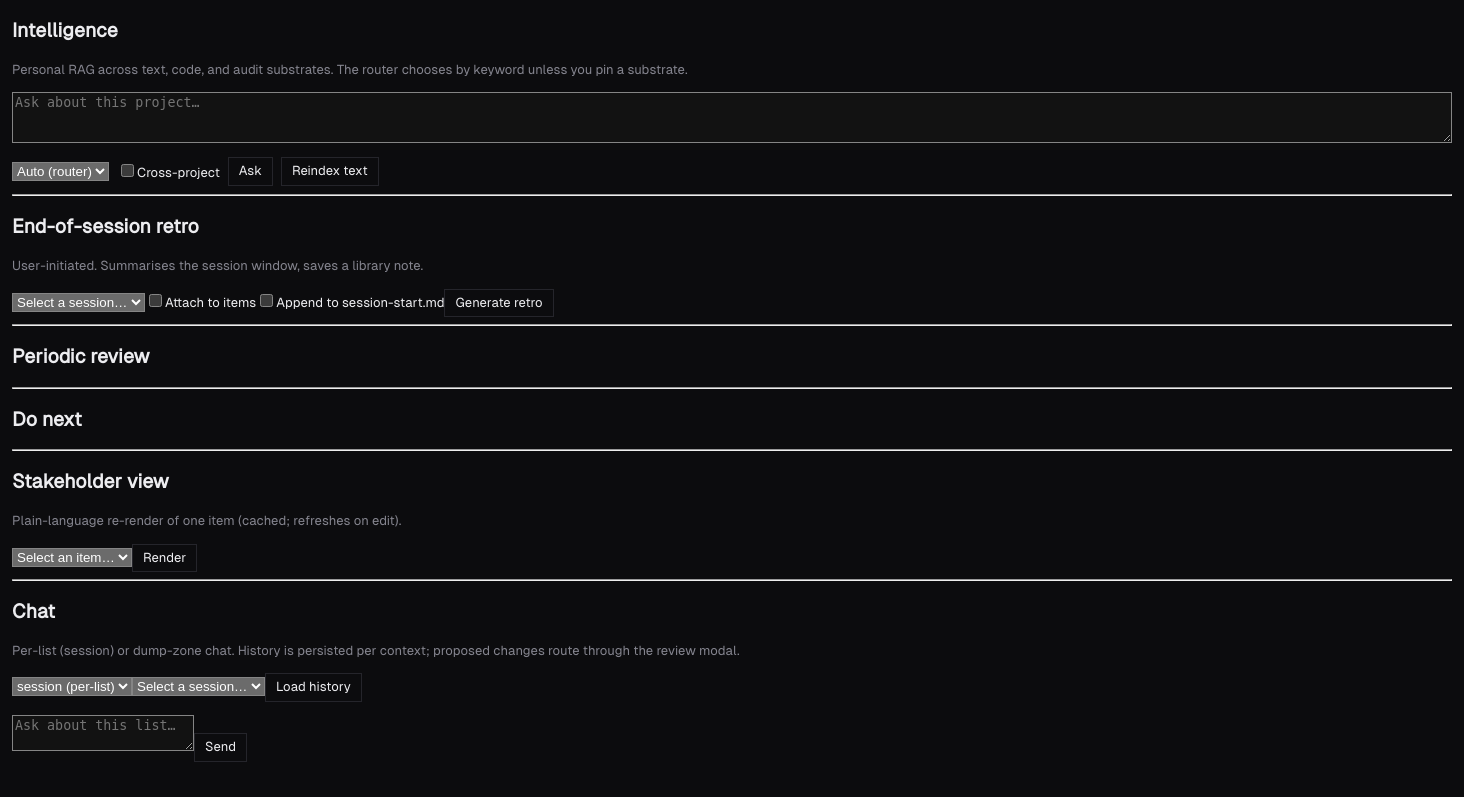
Test: Phase 14 — Intelligence (RAG) surface › surfaces an error when the query API throws
This screenshot has width=1464, height=797.
Type "q" into the text box with test id "rag-input".
click(732, 118); type("q")  # box left=12, top=92, right=1452, bottom=144
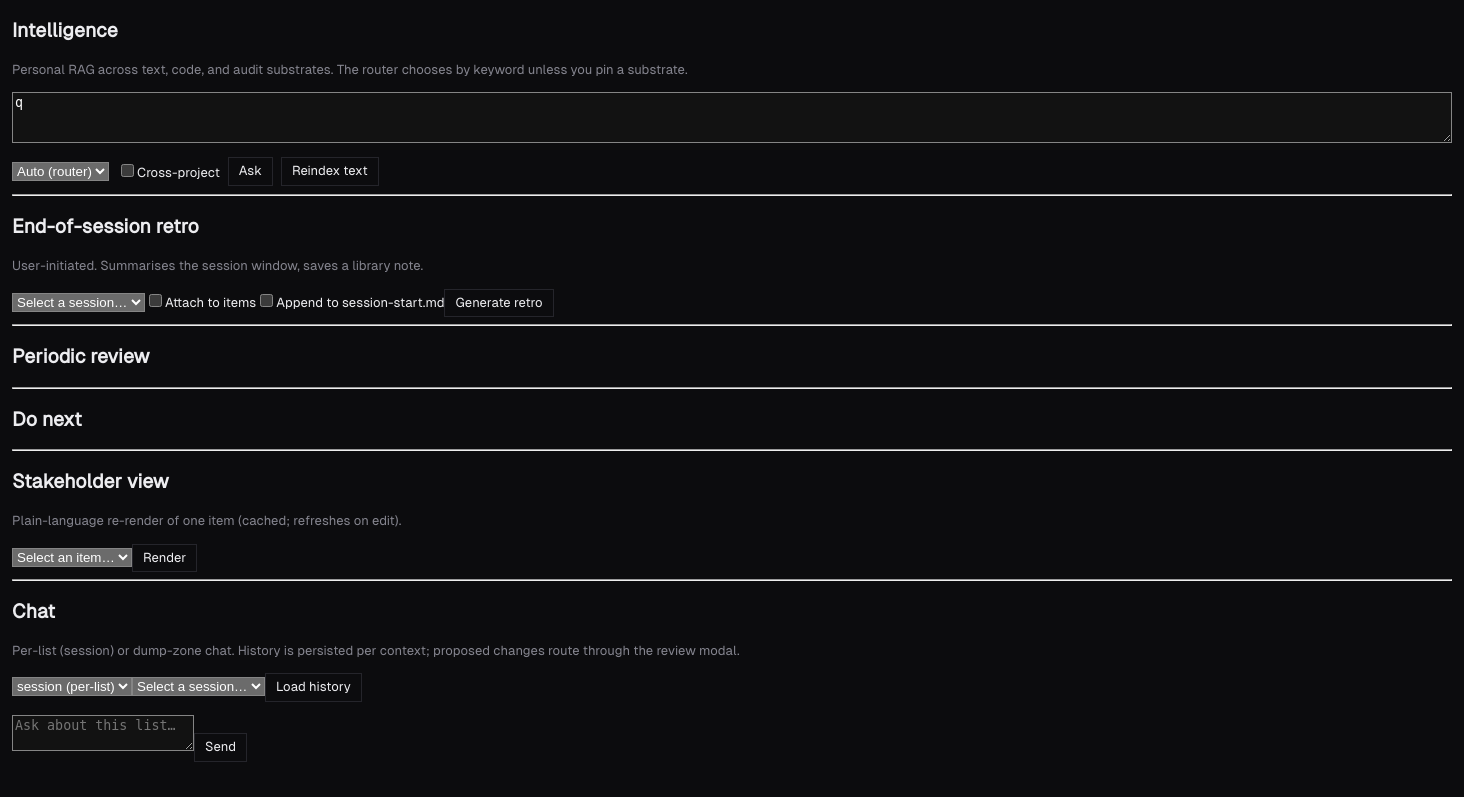
Click the button with test id "rag-run".
click(250, 172)  # box left=228, top=157, right=273, bottom=186
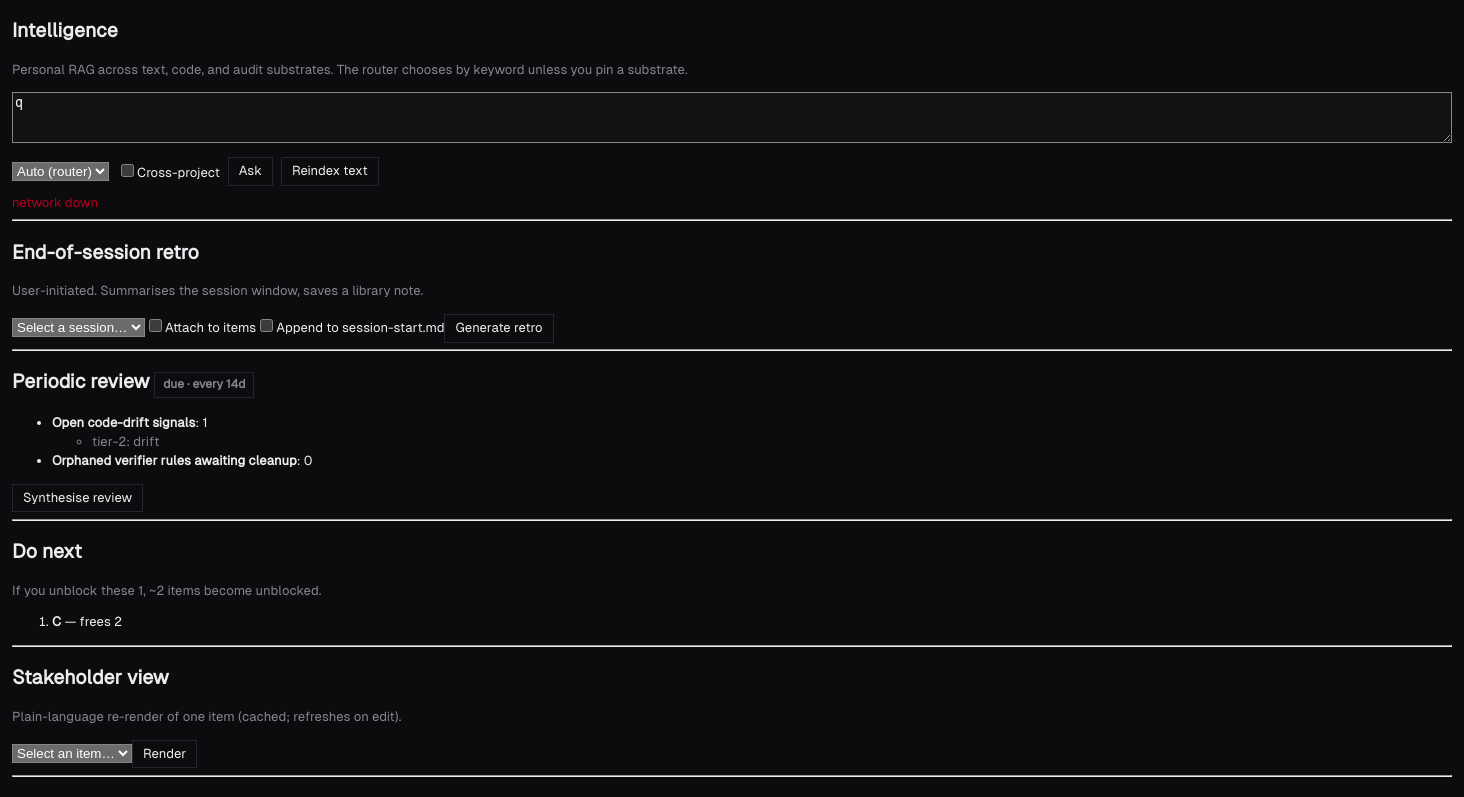
Expected: the message with test id "rag-error" reads "network down", left=12, top=195, right=98, bottom=210
